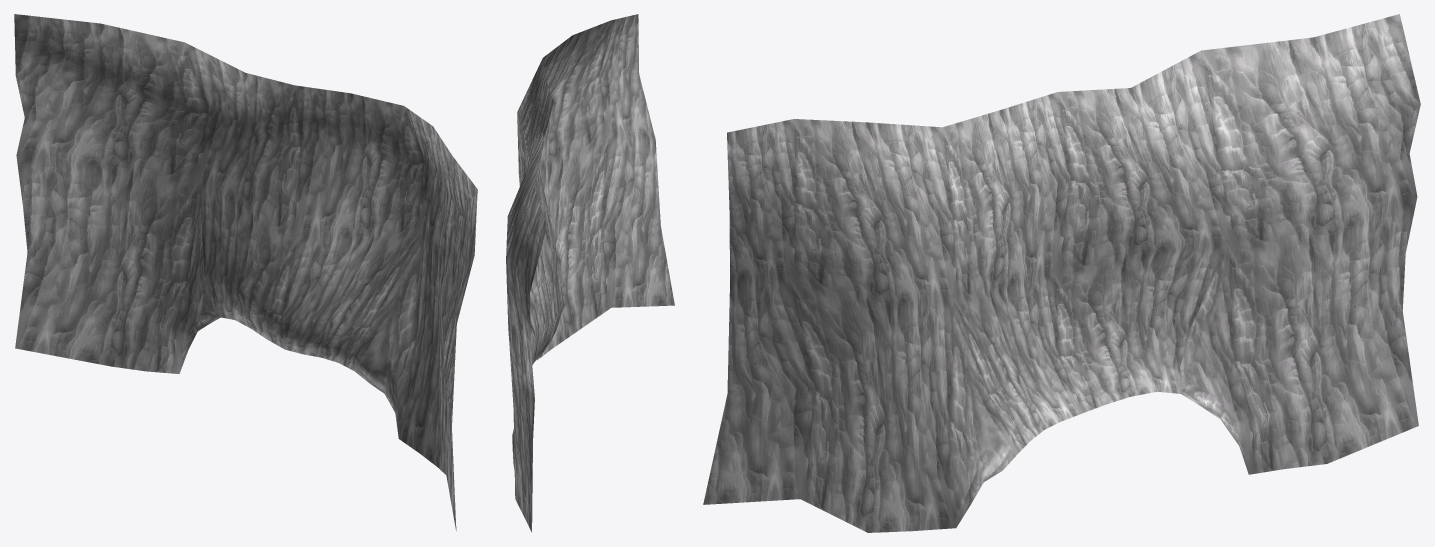
The model's file is SWORDLIGHT20_PS-AREA03_164.fbx.
The picture shows the model from 3 angles, left to right: view 1: azimuth 30°, elevation 25°; view 2: azimuth 150°, elevation 25°; view 3: azimuth 270°, elevation 25°; orthographic projection. The views are drawn at different scales.
Visible parts, largest first — view 1: SWORDLIGHT20_PS-AREA03_164; view 2: SWORDLIGHT20_PS-AREA03_164; view 3: SWORDLIGHT20_PS-AREA03_164.
Boxes of the visible parts, x1,y1,x2,y2 form: SWORDLIGHT20_PS-AREA03_164: (14, 14, 477, 530); SWORDLIGHT20_PS-AREA03_164: (506, 14, 674, 532); SWORDLIGHT20_PS-AREA03_164: (703, 14, 1420, 532).
Bounding box in the file's own units: 109589 × 169241 × 258847.
Materials: 2 (2 with a texture image).
